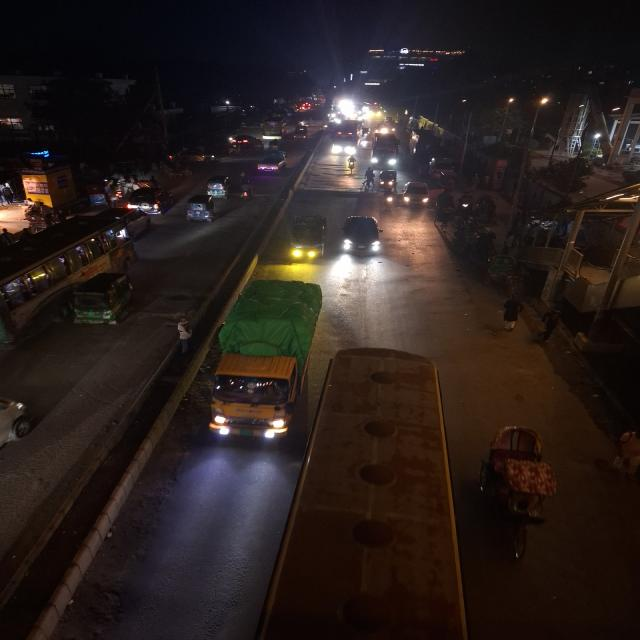bus: (271, 344, 471, 640), (204, 278, 329, 446), (0, 210, 136, 354), (330, 120, 364, 158), (370, 134, 401, 169), (261, 118, 284, 140)
car: (0, 388, 38, 472), (338, 211, 386, 261), (124, 186, 175, 216), (255, 150, 290, 177), (402, 179, 431, 209), (227, 134, 255, 148), (180, 150, 208, 164)
cng: (68, 270, 135, 328), (183, 194, 219, 225), (203, 174, 233, 200), (376, 168, 398, 195)
motorcycle: (236, 177, 257, 203), (345, 156, 358, 174)
pedestrian: (496, 296, 528, 332)
pickup_van: (284, 211, 329, 266)
rickshaw: (478, 422, 559, 564), (483, 254, 532, 296), (82, 182, 114, 206)
